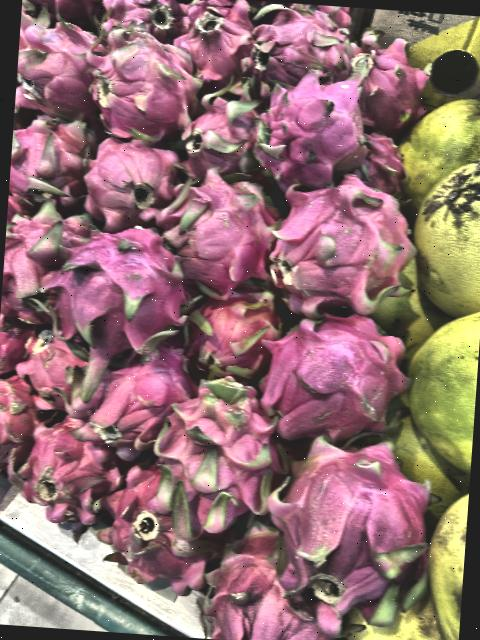buah-naga-matang: (267, 420, 427, 622), (158, 370, 276, 540), (257, 314, 413, 442), (277, 170, 414, 314), (56, 220, 186, 371), (76, 22, 206, 146), (195, 522, 331, 640), (166, 166, 291, 286), (0, 412, 123, 533), (258, 72, 380, 186), (102, 464, 204, 592), (0, 208, 89, 342), (63, 137, 186, 220), (79, 354, 188, 446), (14, 8, 105, 118), (248, 2, 352, 92), (180, 84, 268, 178), (349, 40, 430, 136), (8, 112, 86, 206), (175, 3, 251, 84), (11, 332, 89, 410), (0, 375, 37, 494), (101, 0, 187, 47)
